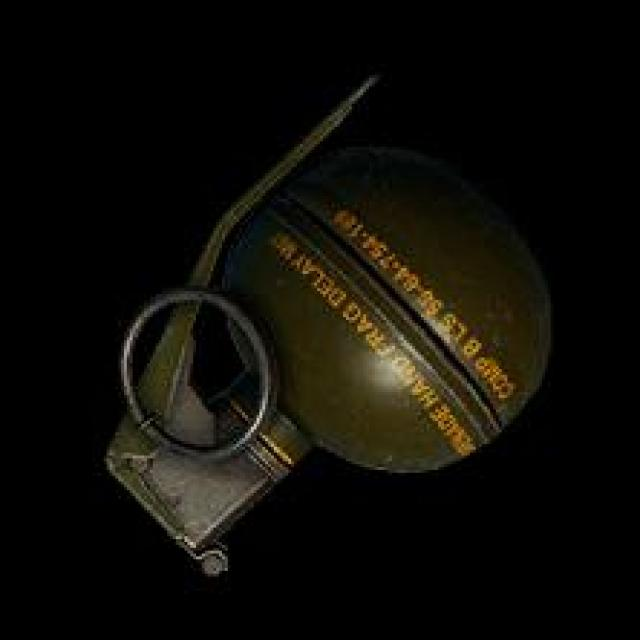grenade: (108, 71, 557, 575)
